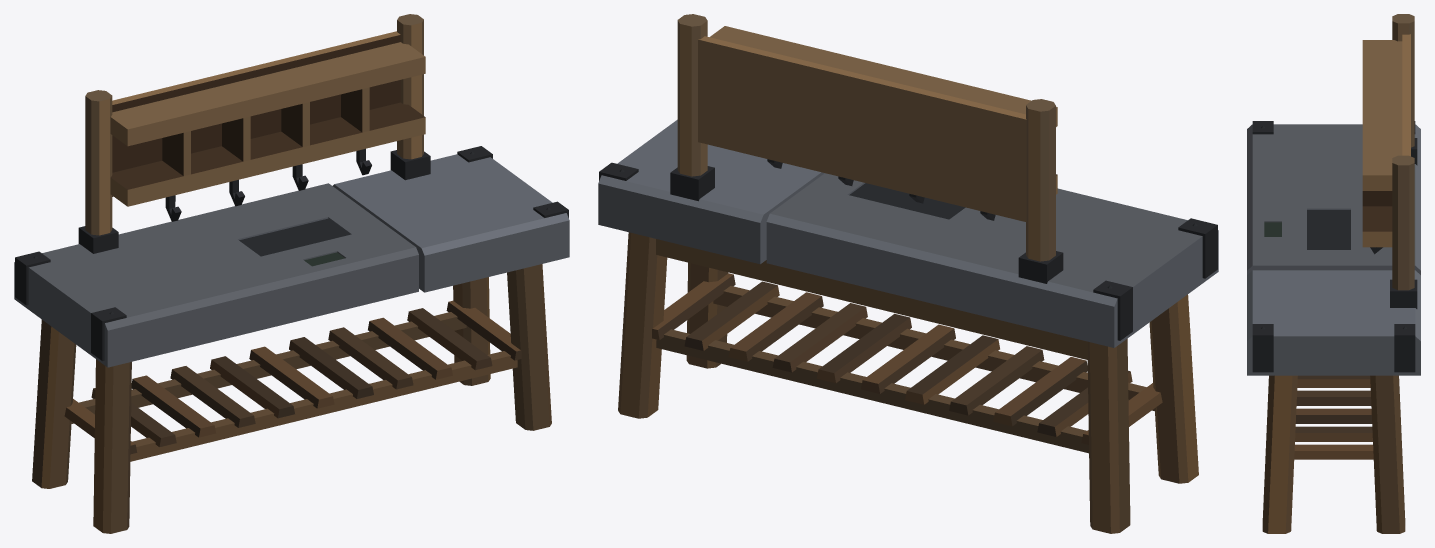
File: alchemy-workbench-117b73.glb
3 views of the same model, side by side, from view 1: azimuth 30°, elevation 25°; view 2: azimuth 150°, elevation 25°; view 3: azimuth 270°, elevation 25° (orthographic). The views are drawn at different scales.
Size of the model in its own units: 2.02 by 1.52 by 0.7.
